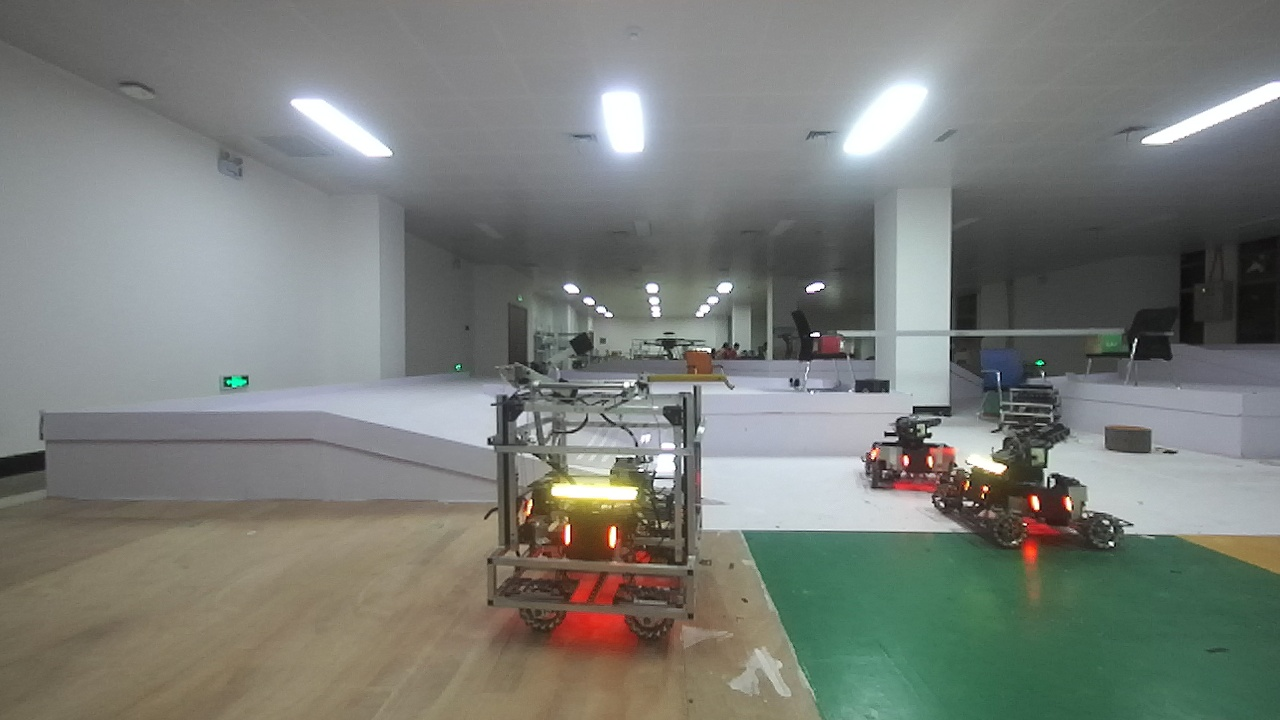car: (466, 380, 720, 649), (936, 431, 1112, 556), (854, 408, 967, 496)
